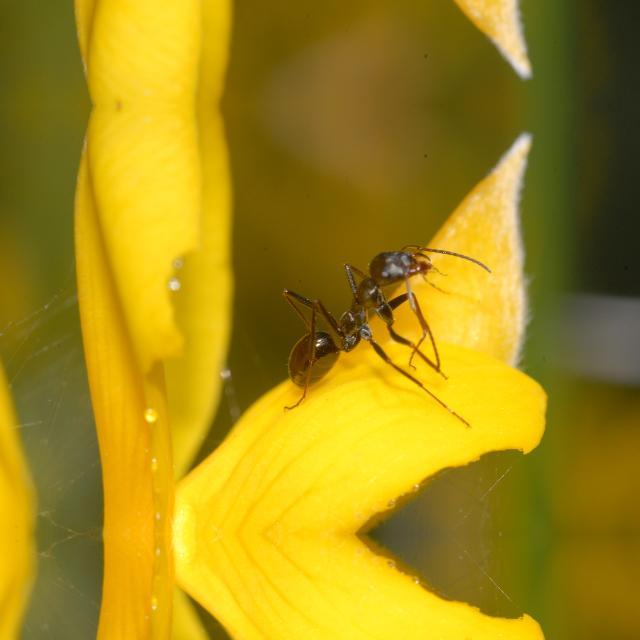Cataglyphis: (262, 225, 482, 402)
